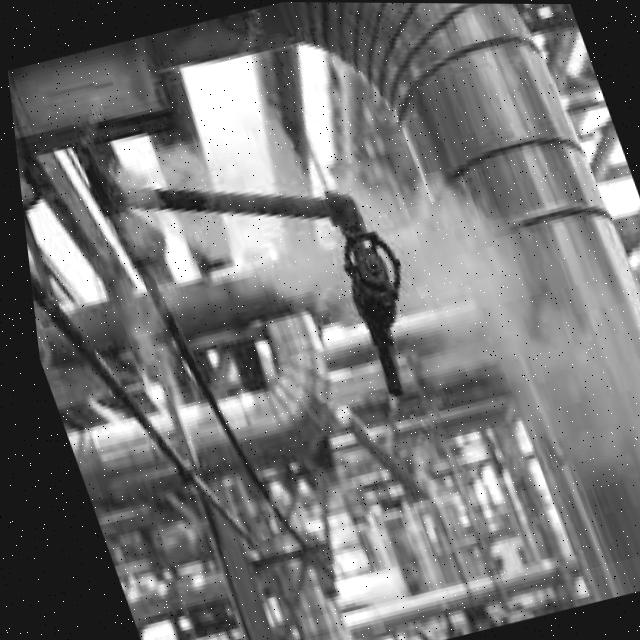corrosion: (41, 79, 495, 439)
